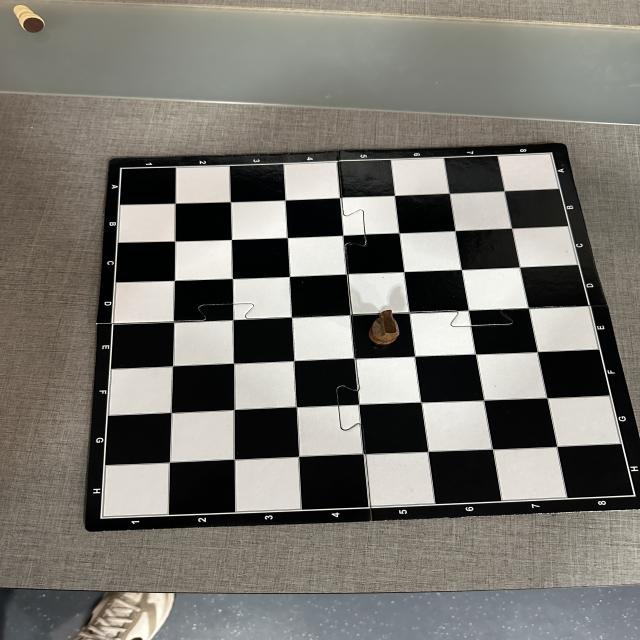Black-Knight: (368, 310, 400, 344)
White-Pawn: (13, 4, 43, 33)
